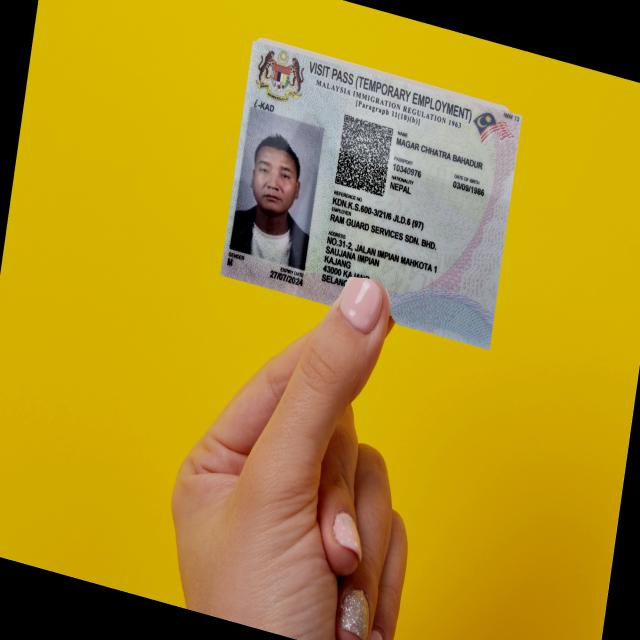ikad-temp: (219, 36, 522, 350)
